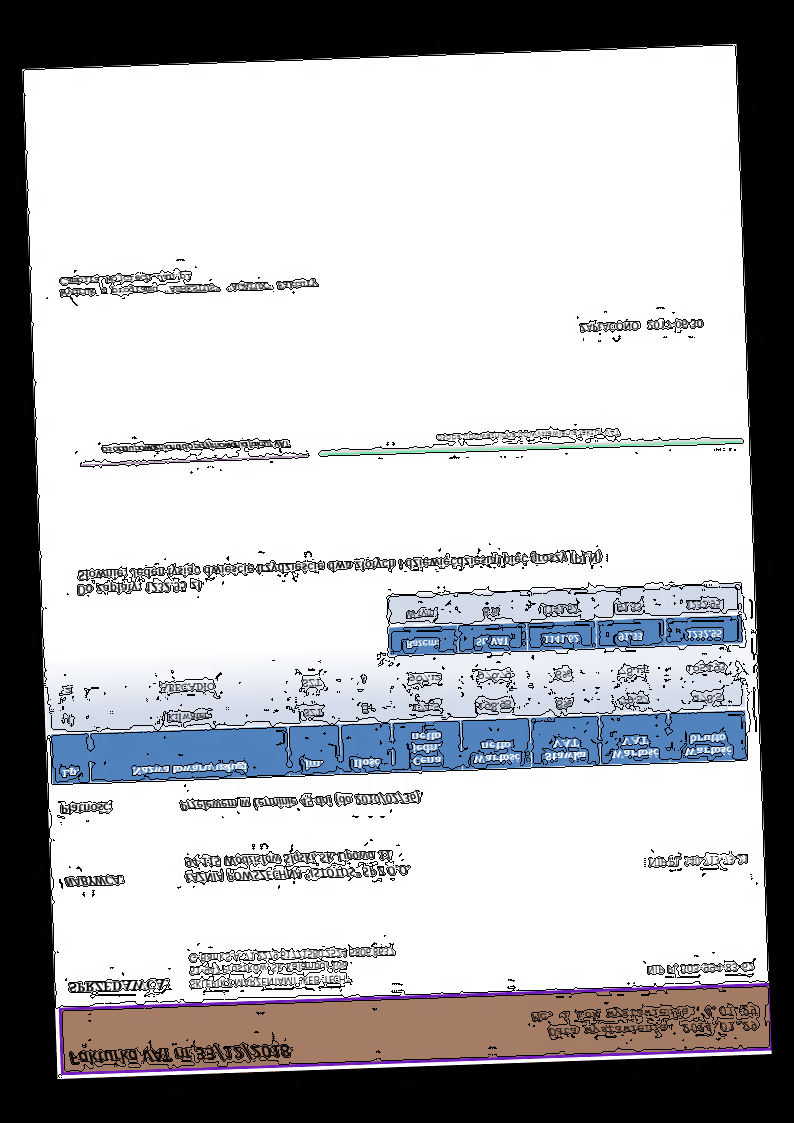Table: (46, 649, 748, 787), (385, 581, 744, 658)
TextBox: (74, 547, 605, 598), (186, 942, 397, 993), (57, 265, 322, 302), (527, 1001, 759, 1042), (181, 846, 413, 886), (65, 1039, 293, 1072), (177, 790, 422, 814), (98, 436, 290, 458), (433, 425, 623, 445), (577, 315, 706, 336), (65, 975, 170, 997), (644, 959, 756, 979), (644, 851, 752, 871), (61, 871, 125, 890), (57, 800, 114, 818)
